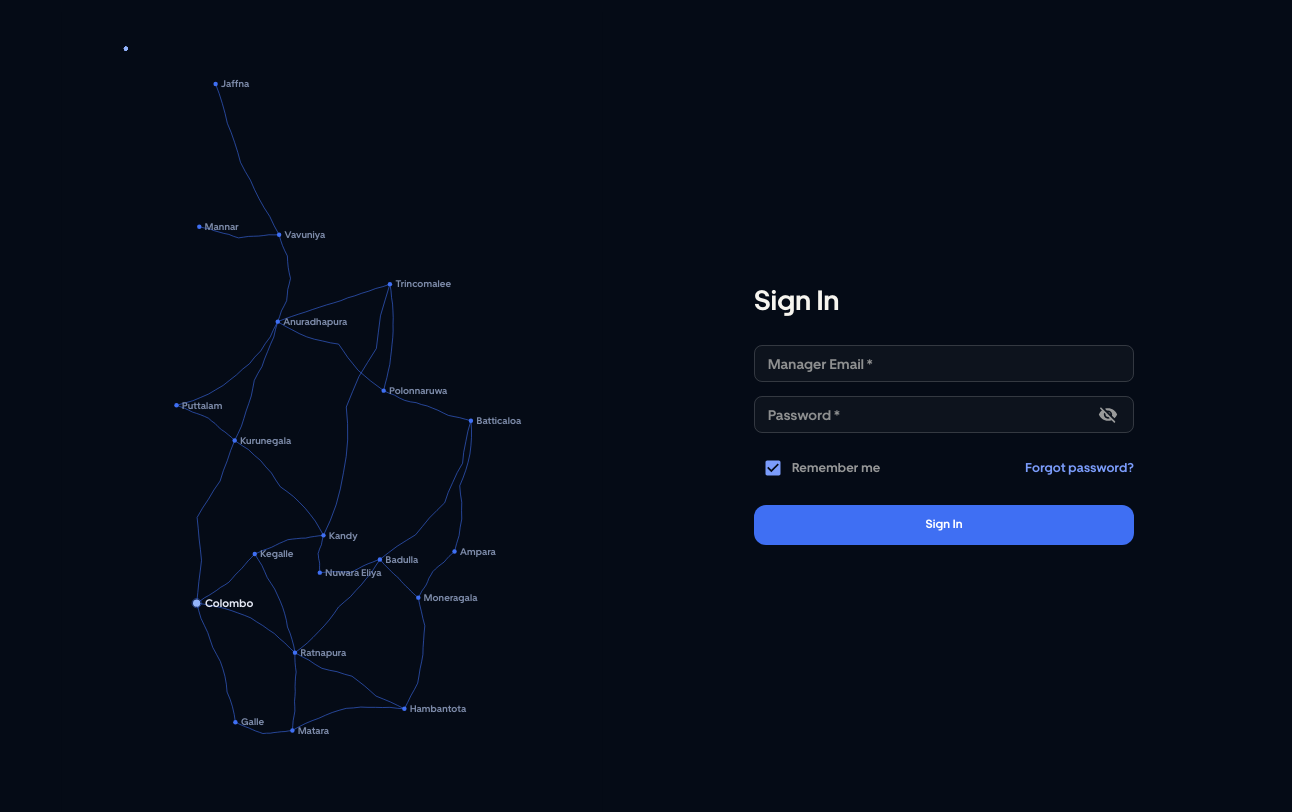
Test case: App — LoginShell › rejects a login response for a role this portal does not serve, without storing a session
Type "rider@trackme.com" into the field labelled "Manager Email *".
click(944, 364); type("rider@trackme.com")  # box top-left (754, 345), bottom-right (1134, 382)
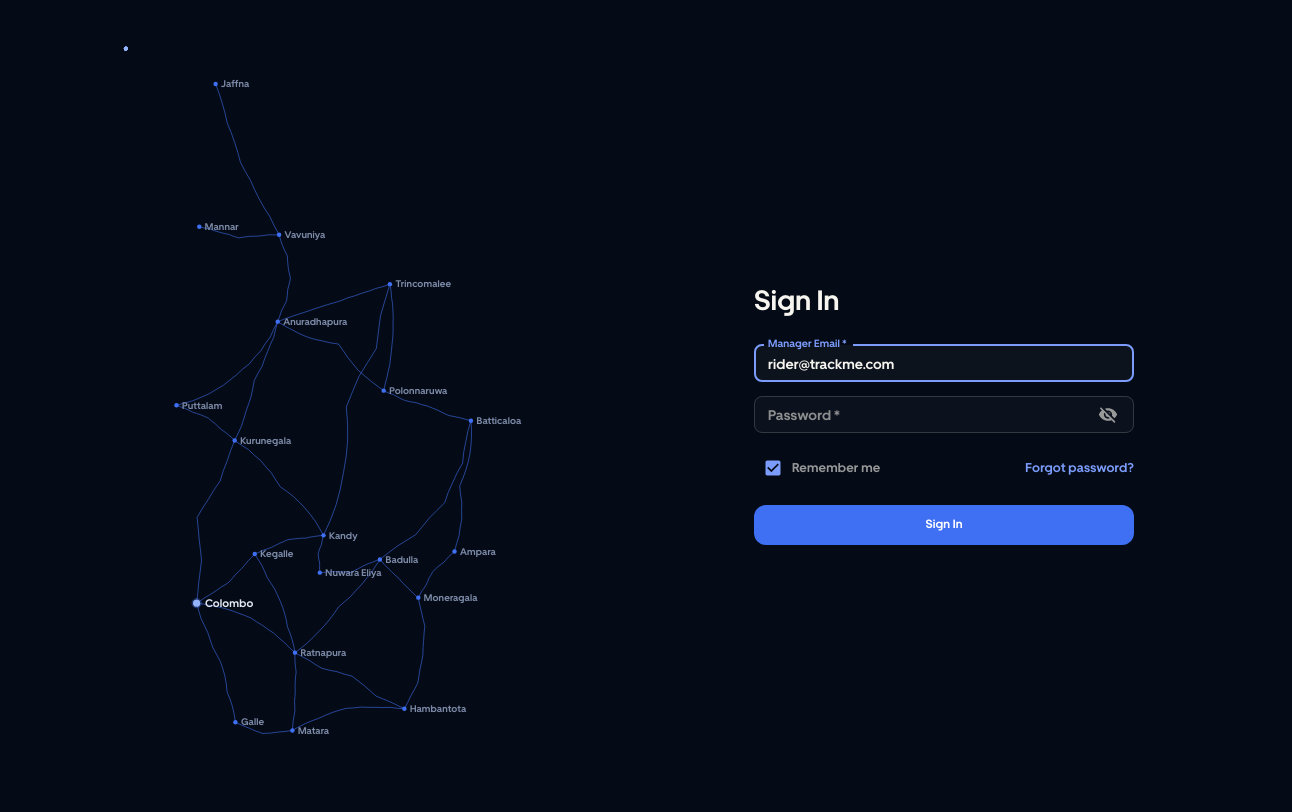
Type "secret123" into the password field labelled "Password *".
click(920, 415); type("secret123")  # box top-left (754, 396), bottom-right (1085, 433)
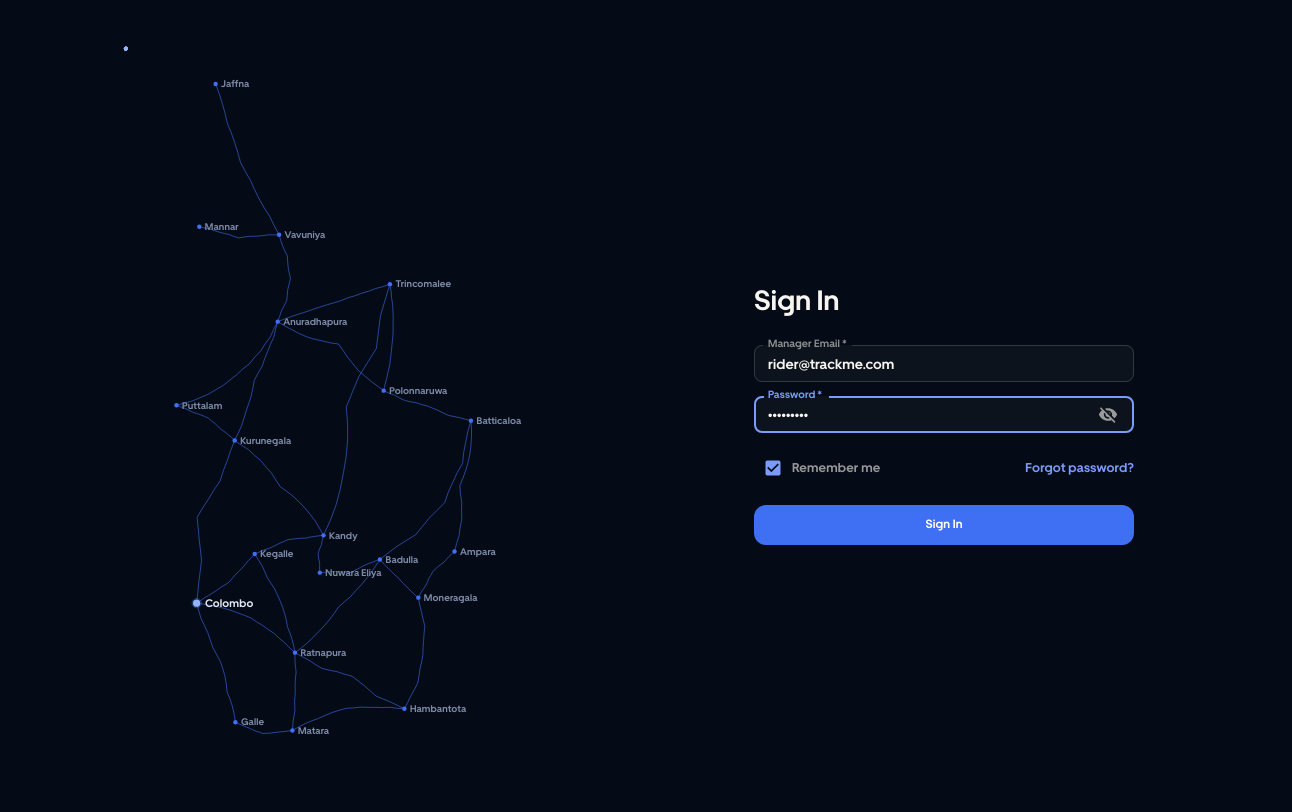
Click the button "Sign In".
click(944, 525)  # box top-left (754, 505), bottom-right (1134, 545)
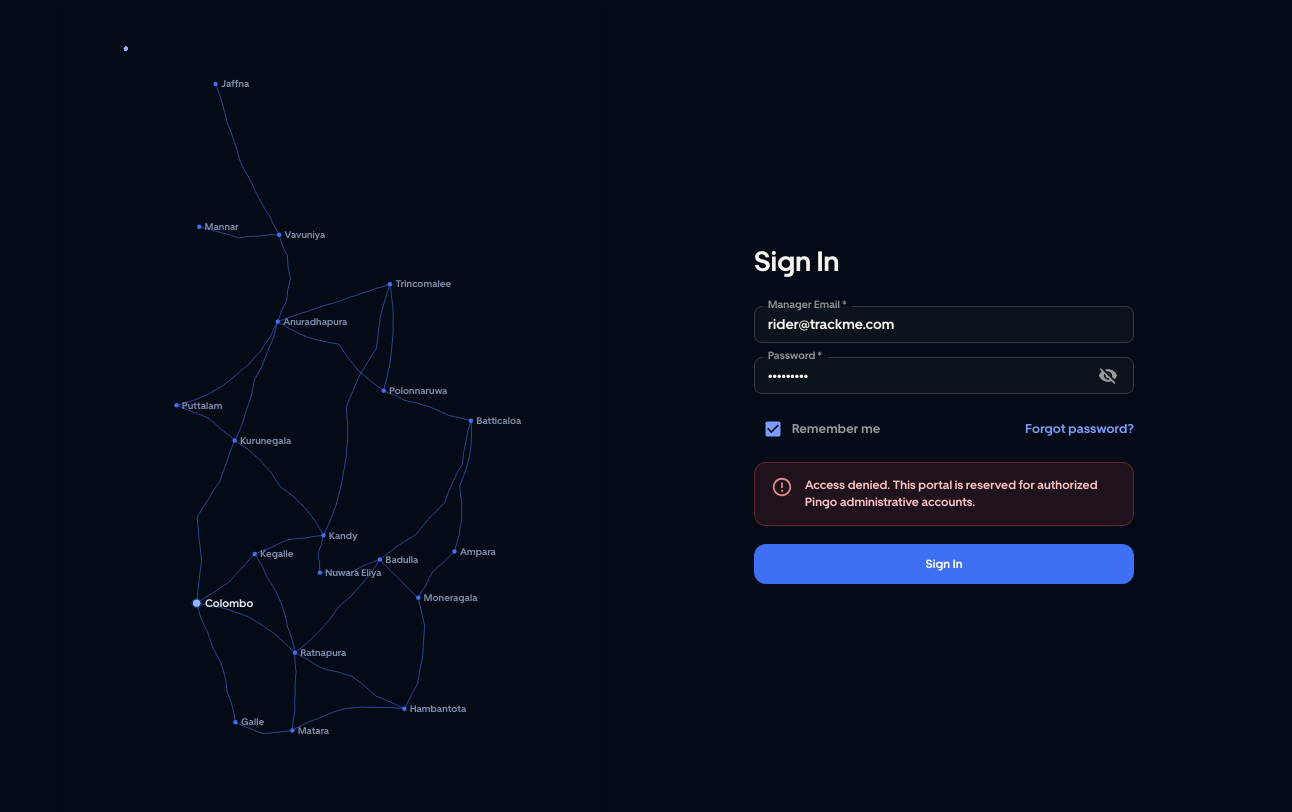
Check: the text "reserved for authorized pingo administrative accounts" is shown, box top-left (805, 478), bottom-right (1098, 509)
